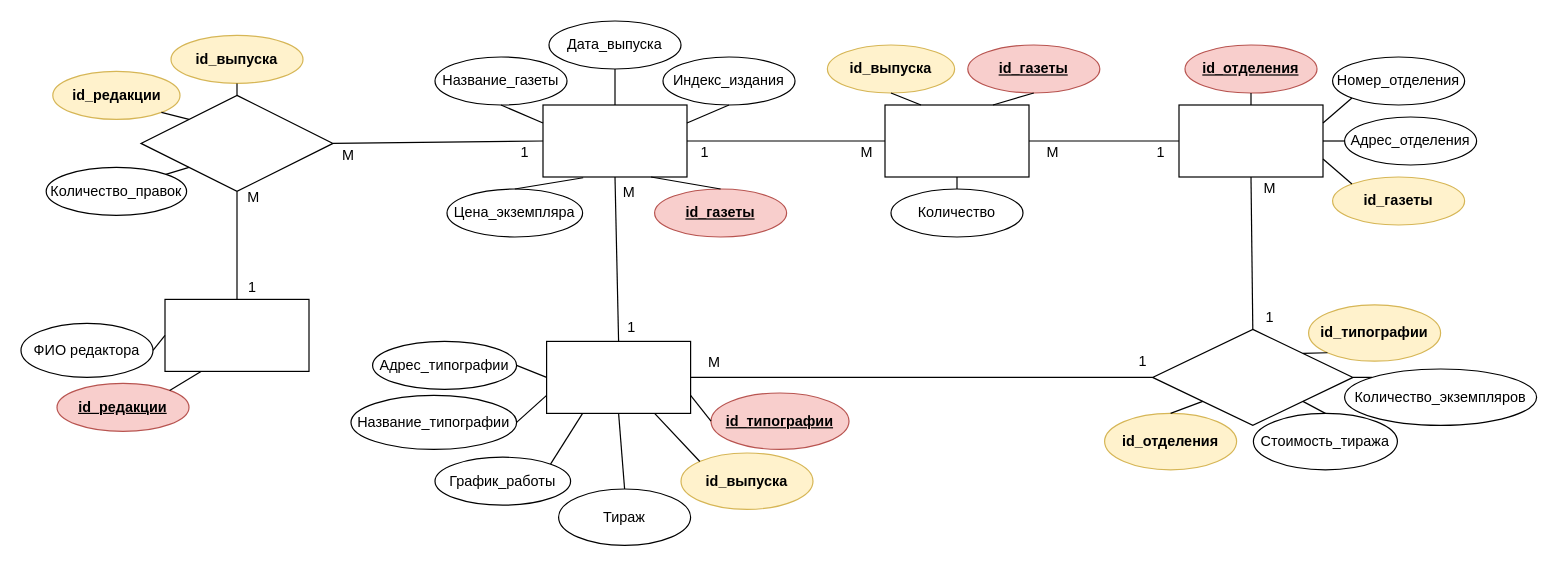
The diagram is 1558 pixels wide and 566 high, and some of its shapes have lost their labels. Here are the shapes that lost their labels. From the top down, the centre of each, then its label:
At point 236,142: "Правки".
At point 614,140: "Выпуск".
At point 956,140: "Газета".
At point 1250,140: "Почтовое отделение".
At point 236,334: "Редакция".
At point 618,376: "Типография".
At point 1252,376: "Распределение газет".
